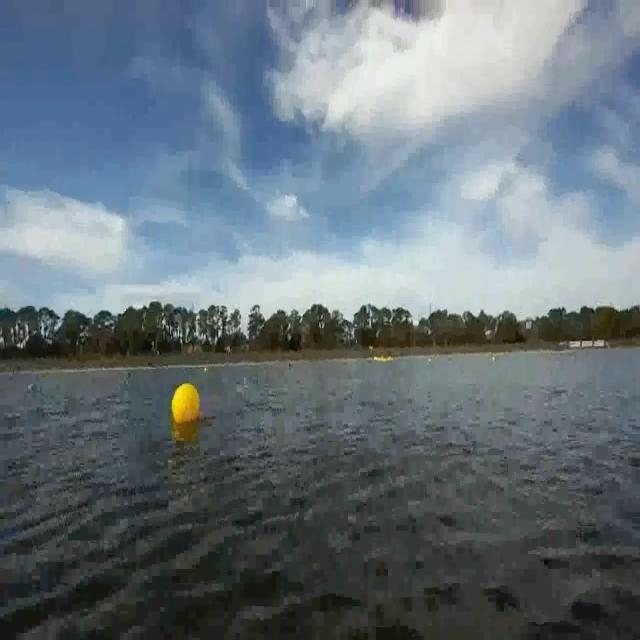yellow-buoy: (171, 384, 200, 426)
